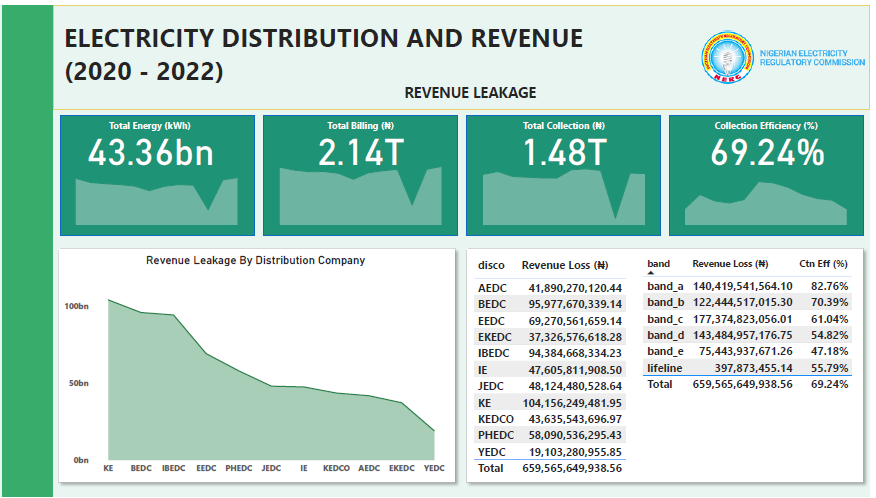

What the dashboard file says about the page in this screenshot:
{"tool":"powerbi","page":{"name":"Revenue Leakage","canvas":[1280,720],"ordinal":4},"visuals":[{"type":"shape","box":[82.7,0,1197.7,152.7],"z":0},{"type":"shape","box":[986.2,162.2,284.7,175],"z":1000},{"type":"shape","box":[688.7,162.2,284.7,175],"z":2000},{"type":"shape","box":[391.3,162.2,284.7,175],"z":3000},{"type":"shape","box":[93.8,162.2,284.7,175],"z":4000},{"type":"shape","box":[9.4,0,73.7,720],"z":5000},{"type":"card","fields":{"Values":["Merged_table.Total Energy (kWh)"]},"box":[114.5,165.4,222.7,85.9],"z":6000},{"type":"image","box":[1027.5,0,249.7,152.7],"z":7000},{"type":"shape","box":[82.7,132,1197.7,39.8],"z":8000},{"type":"areaChart","fields":{"Category":["Merged_table.date.Variation.Date Hierarchy.Month"],"Y":["Sum(Merged_table.energy_kwh)"]},"box":[103.4,221.1,264,105],"z":9000},{"type":"textbox","box":[151.1,162.2,147.9,28.6],"z":10000},{"type":"textbox","box":[448.6,162.2,170.2,28.6],"z":11000},{"type":"textbox","box":[739.6,162.2,184.5,28.6],"z":12000},{"type":"textbox","box":[1030.7,162.2,195.6,28.6],"z":13000},{"type":"card","fields":{"Values":["Sum(Merged_table.billing.billing_naira)"]},"box":[423.1,165.4,222.7,85.9],"z":14000},{"type":"card","fields":{"Values":["Sum(Merged_table.collection.collection_naira)"]},"box":[720.5,165.4,222.7,85.9],"z":15000},{"type":"card","fields":{"Values":["Merged_table.Collection Efficiency (%)"]},"box":[1018,165.4,222.7,85.9],"z":16000},{"type":"areaChart","fields":{"Category":["Merged_table.date.Variation.Date Hierarchy.Month"],"Y":["Sum(Merged_table.collection.collection_naira)"]},"box":[699.9,221.1,264,105],"z":17000},{"type":"areaChart","fields":{"Category":["Merged_table.date.Variation.Date Hierarchy.Month"],"Y":["Sum(Merged_table.billing.billing_naira)"]},"box":[402.4,221.1,264,105],"z":18000},{"type":"areaChart","fields":{"Category":["Merged_table.date.Variation.Date Hierarchy.Month"],"Y":["Merged_table.Collection Efficiency (%)"]},"box":[995.7,221.1,264,105],"z":19000},{"type":"shape","box":[82.7,348.3,599.7,361.1],"z":20000},{"type":"shape","box":[680.8,348.3,599.7,361.1],"z":21000},{"type":"textbox","box":[93.8,15.9,830.3,116.1],"z":22000},{"type":"textbox","box":[509,108.2,370.6,39.8],"z":23000},{"type":"tableEx","title":"Revenue Leakage By Distribution Company","fields":{"Values":["Merged_table.disco","Merged_table.Revenue Loss (₦)"]},"box":[695.1,362.7,248.1,334],"z":24000},{"type":"tableEx","title":"Revenue Leakage By Distribution Company","fields":{"Values":["Merged_table.band","Merged_table.Revenue Loss (₦)","Merged_table.Collection Efficiency (%)"]},"box":[943.2,362.7,318.1,334],"z":25000},{"type":"areaChart","title":"Revenue Leakage By Distribution Company","fields":{"Category":["Merged_table.disco"],"Y":["Merged_table.Revenue Loss (₦)"]},"box":[93.8,362.7,572.6,334],"z":26000}]}

Visuals, with their boxes in screenshot pixels (x1, y1, x2, y2), scaled from the page's 1280x720 canvas onto the 876x498 screenshot:
shape: (x1=57, y1=0, x2=875, y2=106)
shape: (x1=675, y1=112, x2=870, y2=233)
shape: (x1=471, y1=112, x2=666, y2=233)
shape: (x1=268, y1=112, x2=463, y2=233)
shape: (x1=64, y1=112, x2=259, y2=233)
shape: (x1=6, y1=0, x2=57, y2=497)
card - Merged_table.Total Energy (kWh): (x1=78, y1=114, x2=231, y2=174)
image: (x1=703, y1=0, x2=874, y2=106)
shape: (x1=57, y1=91, x2=875, y2=119)
areaChart - Merged_table.date.Variation.Date Hierarchy.Month x Sum(Merged_table.energy_kwh): (x1=71, y1=153, x2=251, y2=226)
textbox: (x1=103, y1=112, x2=205, y2=132)
textbox: (x1=307, y1=112, x2=423, y2=132)
textbox: (x1=506, y1=112, x2=632, y2=132)
textbox: (x1=705, y1=112, x2=839, y2=132)
card - Sum(Merged_table.billing.billing_naira): (x1=290, y1=114, x2=442, y2=174)
card - Sum(Merged_table.collection.collection_naira): (x1=493, y1=114, x2=646, y2=174)
card - Merged_table.Collection Efficiency (%): (x1=697, y1=114, x2=849, y2=174)
areaChart - Merged_table.date.Variation.Date Hierarchy.Month x Sum(Merged_table.collection.collection_naira): (x1=479, y1=153, x2=660, y2=226)
areaChart - Merged_table.date.Variation.Date Hierarchy.Month x Sum(Merged_table.billing.billing_naira): (x1=275, y1=153, x2=456, y2=226)
areaChart - Merged_table.date.Variation.Date Hierarchy.Month x Merged_table.Collection Efficiency (%): (x1=681, y1=153, x2=862, y2=226)
shape: (x1=57, y1=241, x2=467, y2=491)
shape: (x1=466, y1=241, x2=875, y2=491)
textbox: (x1=64, y1=11, x2=632, y2=91)
textbox: (x1=348, y1=75, x2=602, y2=102)
"Revenue Leakage By Distribution Company" tableEx: (x1=476, y1=251, x2=646, y2=482)
"Revenue Leakage By Distribution Company" tableEx: (x1=646, y1=251, x2=863, y2=482)
"Revenue Leakage By Distribution Company" areaChart: (x1=64, y1=251, x2=456, y2=482)
